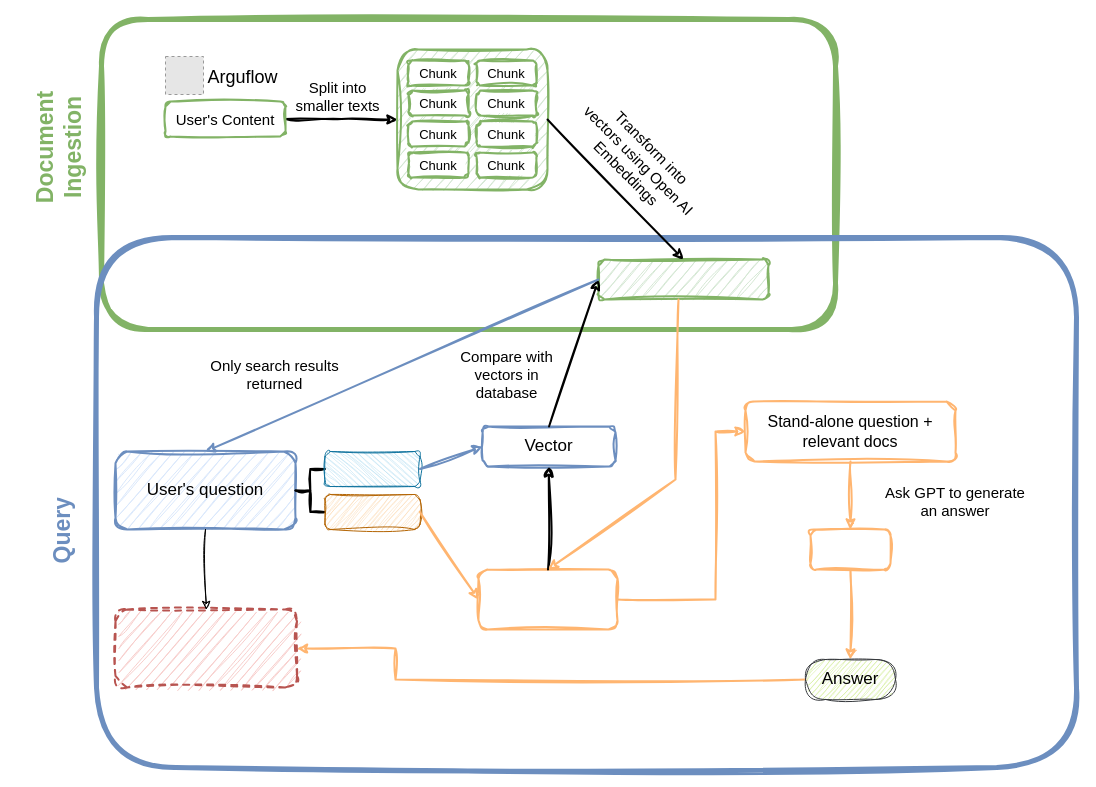
Image size: 1096x787. Some labels were removed from this diagram. Grey dashed boxes stand in for pictures. Each missing label, with the centre of its shape:
"Chat" belongs at [372,512].
"Chat history" belongs at [206,648].
"GPT" belongs at [850,549].
"Search" belongs at [372,468].
"Stand-alone question" belongs at [547,599].
"Vector Database" belongs at [683,279].
